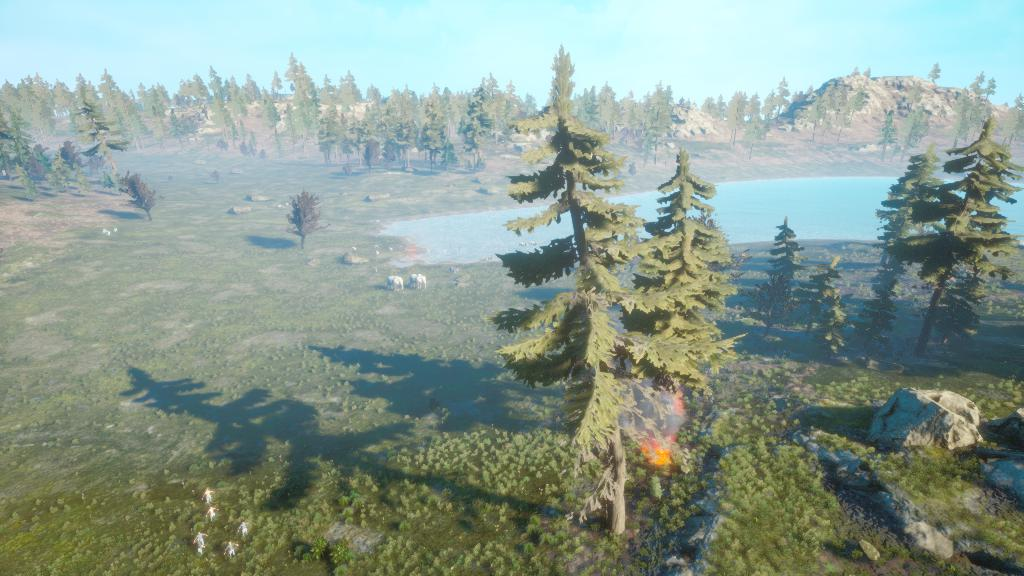Fire: (634, 428, 679, 474)
elephant: (404, 266, 432, 296), (386, 268, 407, 299)
human: (191, 527, 214, 565), (191, 480, 221, 507), (203, 502, 227, 532), (221, 538, 246, 563), (237, 520, 256, 540)
